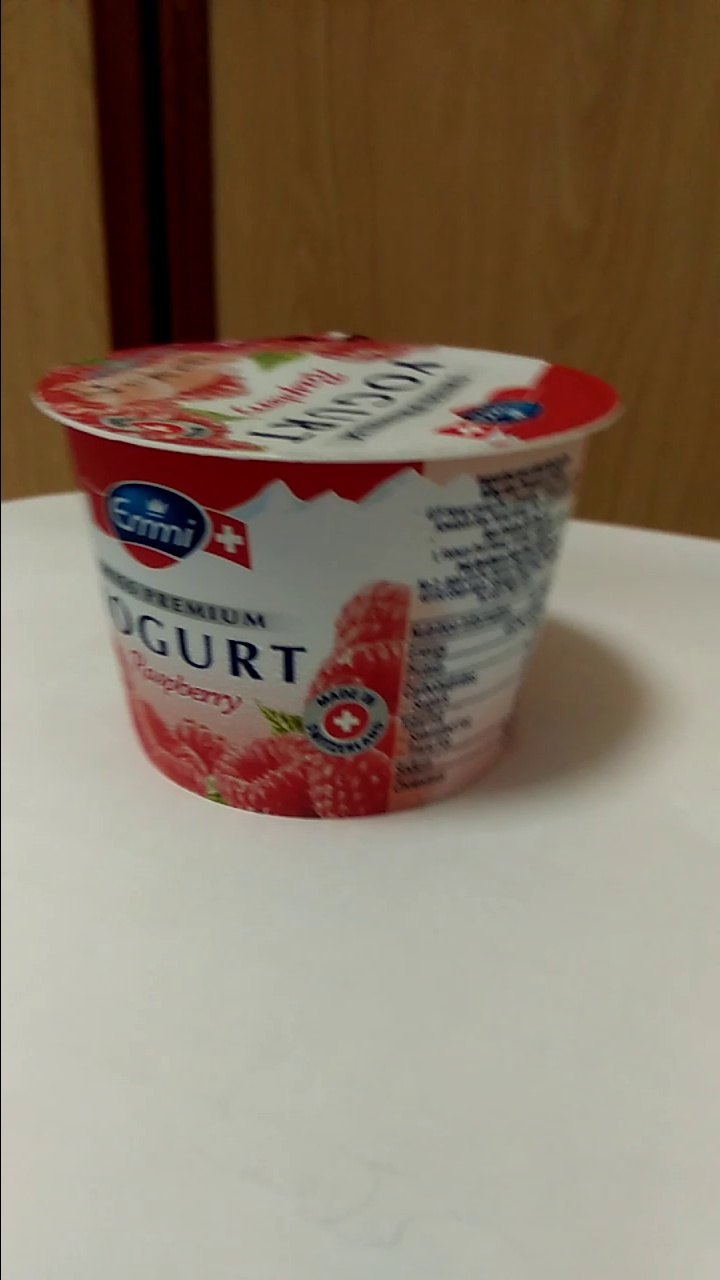yogurt: (45, 337, 613, 815)
